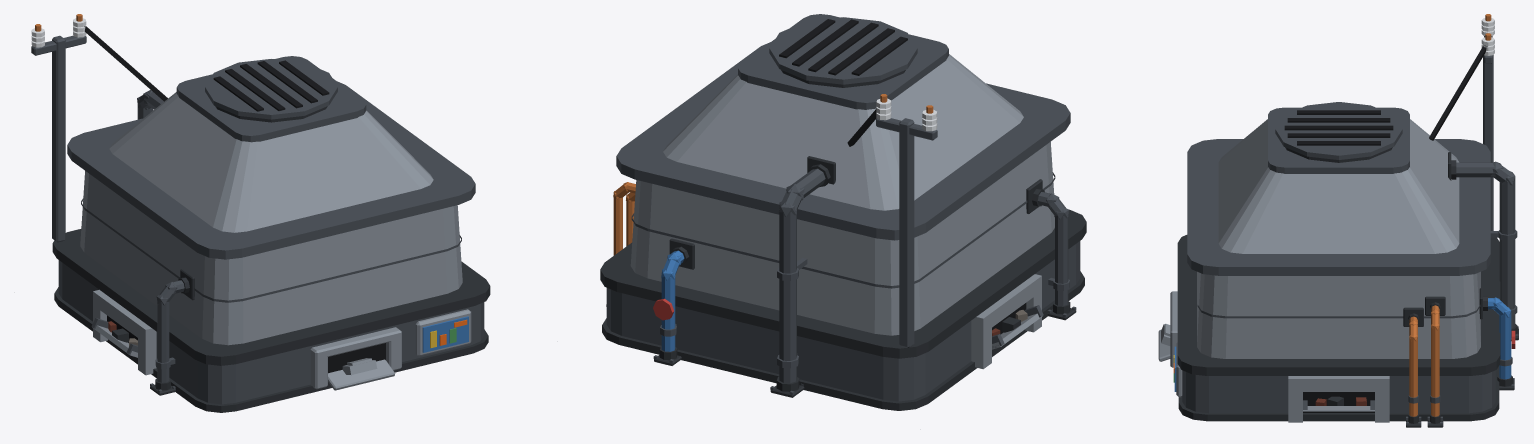
File: fourneau_electrique_t2.glb
3 views of the same model, side by side, from view 1: azimuth 30°, elevation 25°; view 2: azimuth 150°, elevation 25°; view 3: azimuth 270°, elevation 25° (orthographic). The views are drawn at different scales.
Visible parts, largest first — view 1: corps.005, pyramide.002, palier.002, socle_bandeau.002, socle.002, pieces_acier_sombre.005, pieces_acier.002, grille_bord.002, pyramide_rebord.002, pieces_noir.005, socle_plinthe.002, corps_joint.002 (+5 smaller); view 2: corps.005, pyramide.002, palier.002, socle.002, socle_bandeau.002, pieces_acier_sombre.005, grille_bord.002, pyramide_rebord.002, socle_plinthe.002, pieces_noir.005, pieces_acier.002, pieces_fonte.005 (+3 smaller); view 3: pyramide.002, corps.005, palier.002, socle_bandeau.002, socle.002, pieces_acier_sombre.005, pieces_noir.005, grille_bord.002, pyramide_rebord.002, pieces_acier.002, socle_plinthe.002, pieces_fonte.005 (+4 smaller).
Boxes of the visible parts, <box> form: corps.005: <box>80,171,462,345</box>; pyramide.002: <box>109,92,433,232</box>; palier.002: <box>67,81,475,259</box>; socle_bandeau.002: <box>52,229,490,365</box>; socle.002: <box>58,260,484,404</box>; pieces_acier_sombre.005: <box>31,35,184,393</box>; pieces_acier.002: <box>92,289,401,389</box>; grille_bord.002: <box>205,59,337,119</box>; pyramide_rebord.002: <box>176,56,366,142</box>; pieces_noir.005: <box>84,26,329,342</box>; socle_plinthe.002: <box>54,287,488,412</box>; corps_joint.002: <box>81,198,461,302</box>; corps.005: <box>630,142,1054,335</box>; pyramide.002: <box>663,54,1023,210</box>; palier.002: <box>616,42,1070,240</box>; socle.002: <box>606,241,1080,401</box>; socle_bandeau.002: <box>600,209,1086,358</box>; pieces_acier_sombre.005: <box>606,118,1076,395</box>; grille_bord.002: <box>769,17,917,84</box>; pyramide_rebord.002: <box>738,14,948,109</box>; socle_plinthe.002: <box>602,271,1084,410</box>; pieces_noir.005: <box>779,19,1026,334</box>; pieces_acier.002: <box>971,274,1042,369</box>; pieces_fonte.005: <box>654,156,1076,397</box>; pyramide.002: <box>1218,119,1459,253</box>; corps.005: <box>1197,271,1480,358</box>; palier.002: <box>1187,139,1490,275</box>; socle_bandeau.002: <box>1177,235,1500,375</box>; socle.002: <box>1182,370,1495,413</box>; pieces_acier_sombre.005: <box>1303,36,1518,425</box>; pieces_noir.005: <box>1284,45,1487,412</box>; grille_bord.002: <box>1275,102,1402,159</box>; pyramide_rebord.002: <box>1268,107,1409,173</box>; pieces_acier.002: <box>1170,291,1389,422</box>; socle_plinthe.002: <box>1178,366,1499,421</box>; pieces_fonte.005: <box>1327,152,1518,427</box>.
Bounding box in the file's own units: 1.5 × 1.22 × 1.5.
